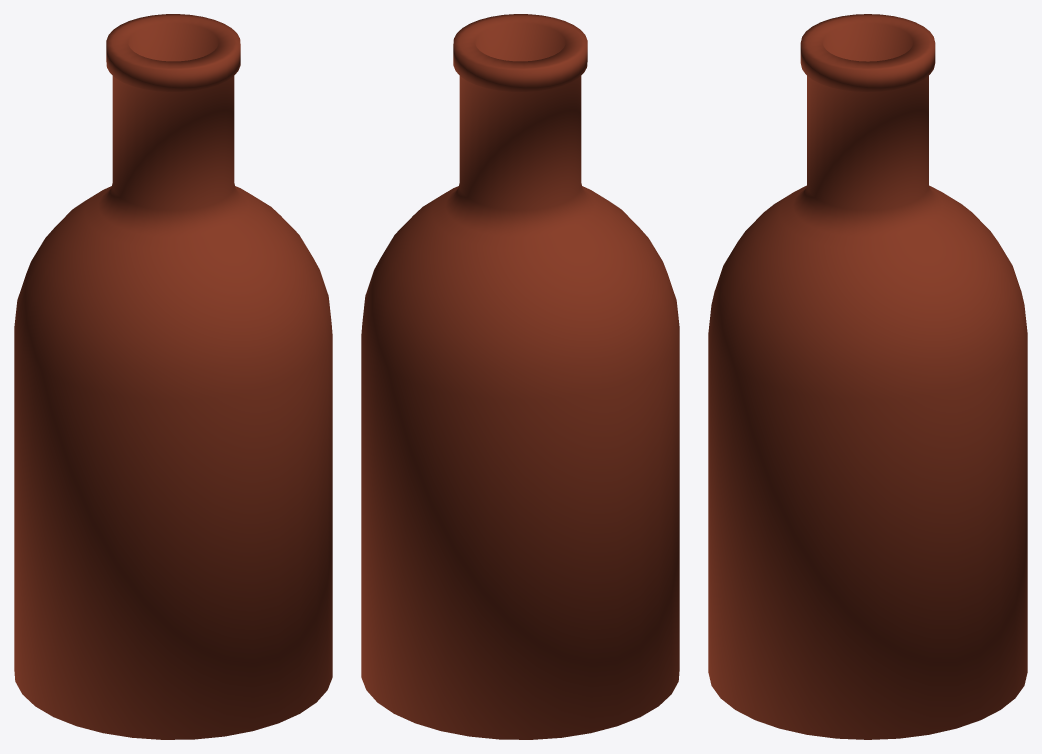
File: Bottle.fbx
3 renders of one model, left to right at view 1: azimuth 30°, elevation 25°; view 2: azimuth 150°, elevation 25°; view 3: azimuth 270°, elevation 25°, orthographic.
Parts seen in each view (by area): view 1: Bottle; view 2: Bottle; view 3: Bottle.
Part boxes in pixels (x1,y1,x2,y2): Bottle: [14, 14, 332, 739]; Bottle: [361, 14, 679, 739]; Bottle: [708, 14, 1027, 739].
Size of the model in its own units: 200 by 436 by 200.
